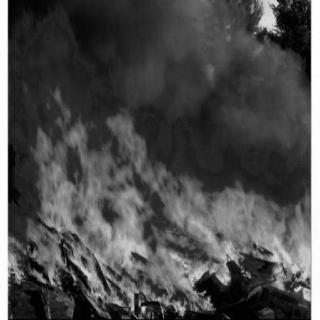Fire: (10, 8, 309, 316)
